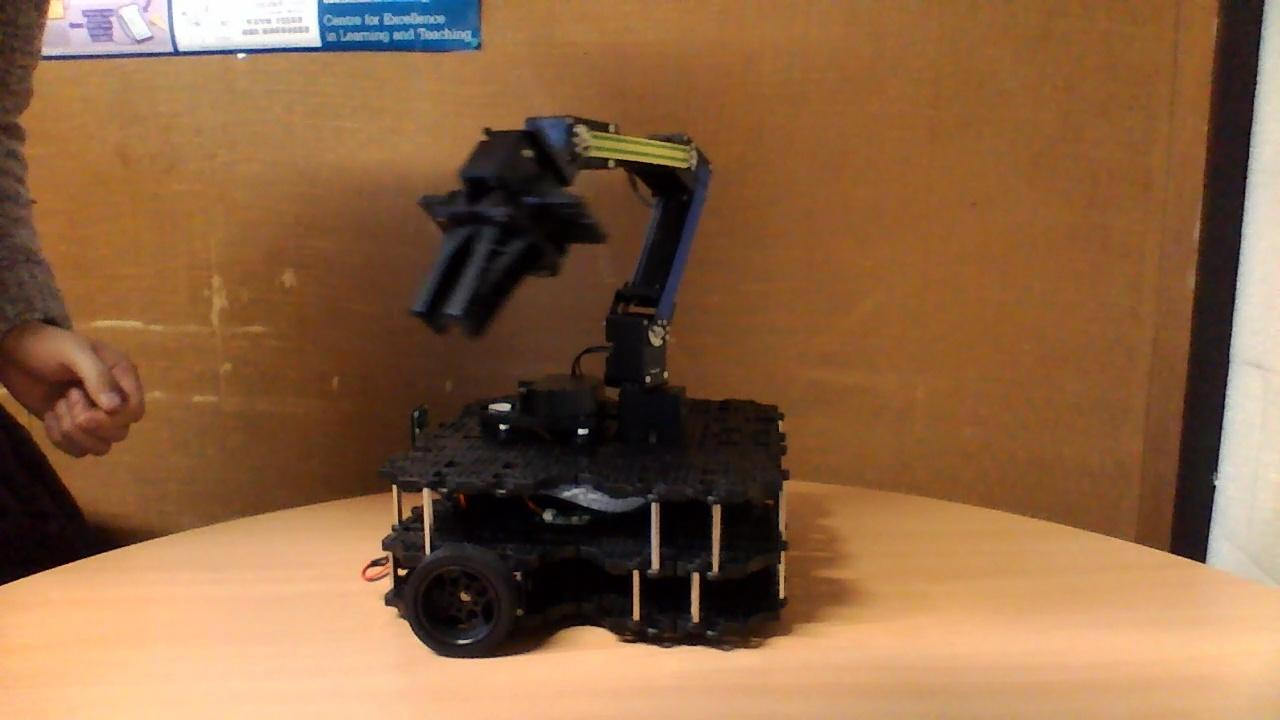Arm: (607, 160, 718, 349)
Hand: (406, 127, 613, 348)
Wrist: (561, 113, 699, 192)
base: (360, 370, 796, 662)
